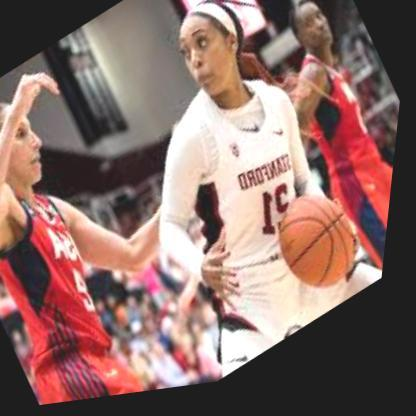basketball: (264, 182, 384, 319)
